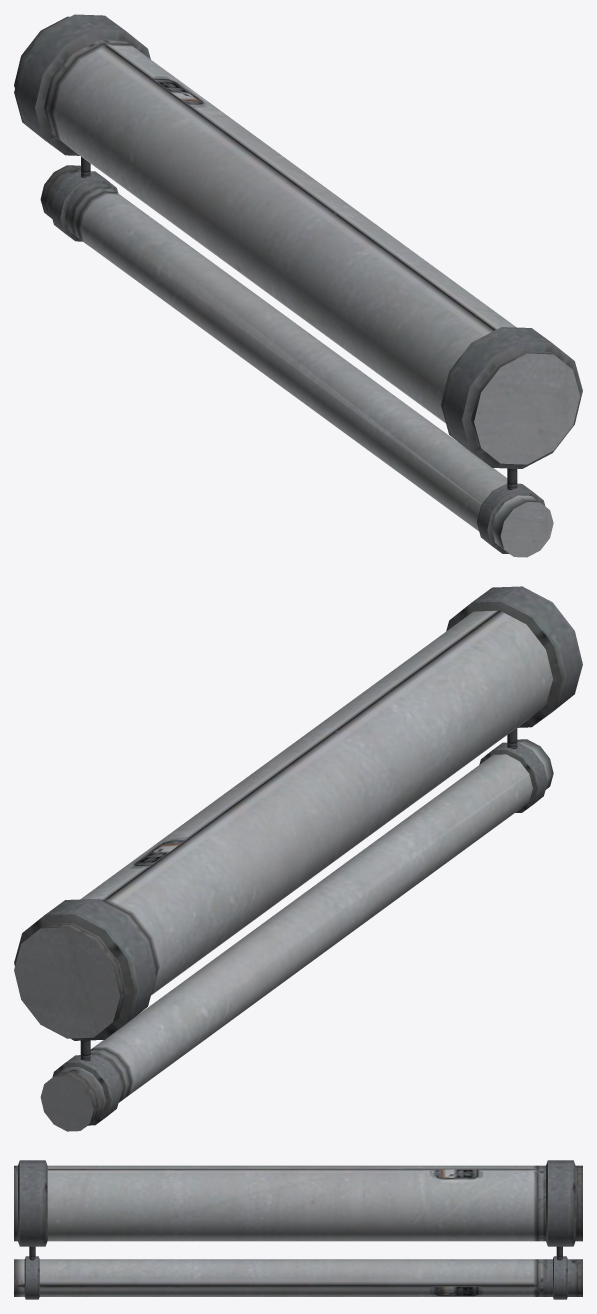
The model's file is Pipe_3m_01Pipe_End_01.FBX.
The picture shows the model from 3 angles, top to bottom: view 1: azimuth 30°, elevation 25°; view 2: azimuth 150°, elevation 25°; view 3: azimuth 270°, elevation 25°; orthographic projection. The views are drawn at different scales.
Visible parts, largest first — view 1: Pipe_3m_01Pipe_End_01; view 2: Pipe_3m_01Pipe_End_01; view 3: Pipe_3m_01Pipe_End_01.
Part boxes in pixels (box(x1,y1,x2,y2)): Pipe_3m_01Pipe_End_01: box(14, 14, 582, 557); Pipe_3m_01Pipe_End_01: box(14, 586, 582, 1131); Pipe_3m_01Pipe_End_01: box(14, 1160, 582, 1299).
Size of the model in its own units: 0.456 by 0.7762 by 3.
